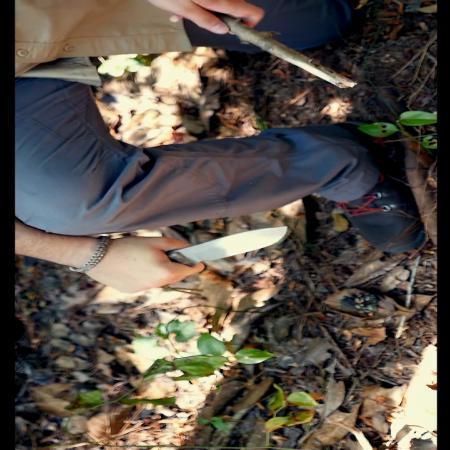long weapon: (123, 222, 295, 296)
